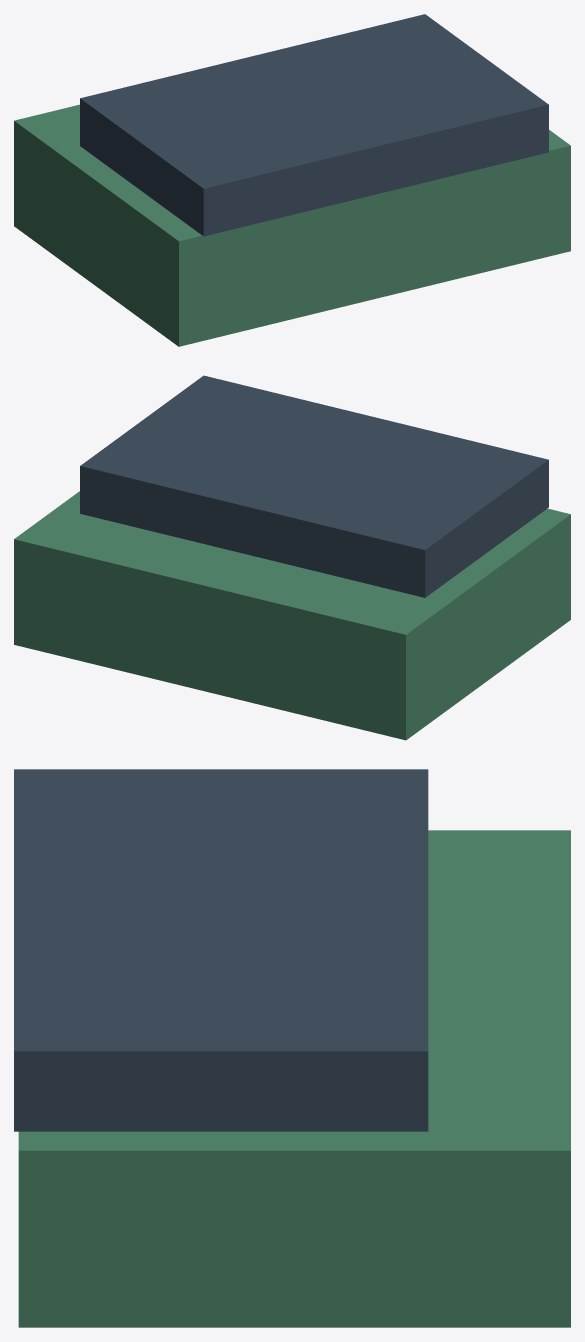
Rendered from pcf8574.glb.
The picture shows the model from 3 angles, top to bottom: view 1: azimuth 30°, elevation 25°; view 2: azimuth 150°, elevation 25°; view 3: azimuth 270°, elevation 25°; orthographic projection. The views are drawn at different scales.
Parts seen in each view (by area): view 1: pcf8574-display, pcf8574-pcb; view 2: pcf8574-pcb, pcf8574-display; view 3: pcf8574-pcb, pcf8574-display.
Boxes of the visible parts, bbox=[...] form: pcf8574-display: bbox=[80, 14, 548, 236]; pcf8574-pcb: bbox=[14, 104, 570, 346]; pcf8574-pcb: bbox=[14, 491, 570, 740]; pcf8574-display: bbox=[80, 375, 548, 597]; pcf8574-pcb: bbox=[18, 830, 570, 1327]; pcf8574-display: bbox=[14, 769, 428, 1131].
Bounding box in the file's own units: 0.0103 × 0.00385 × 0.00756.
